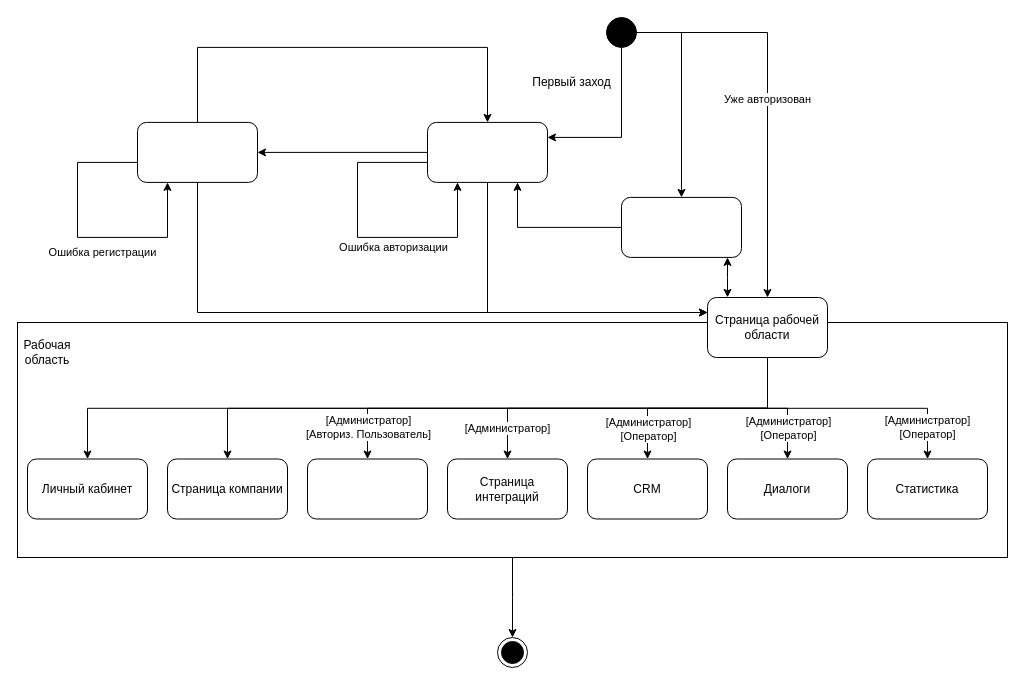
This 1025x685 diagram has some shape labels left out. Each missing label, with the centre of its shape:
"Главная страница" goes at point (681, 226).
"Страница авторизации" goes at point (487, 151).
"Страница подписки" goes at point (367, 488).
"Страница регистрации" goes at point (197, 151).
